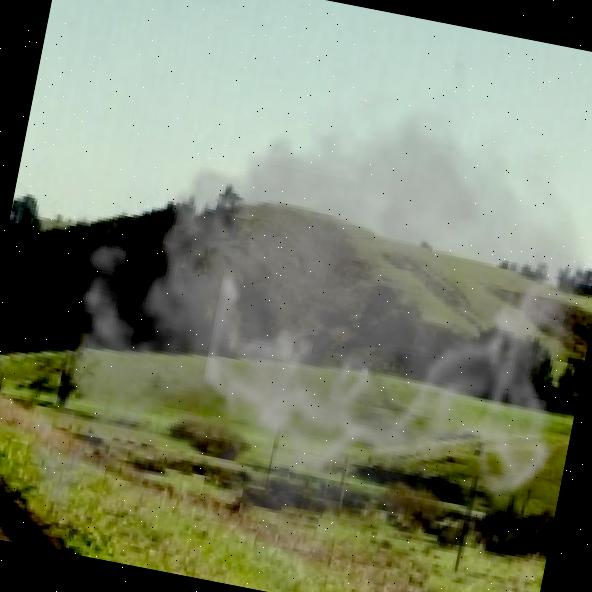smoke: (0, 20, 592, 592)
